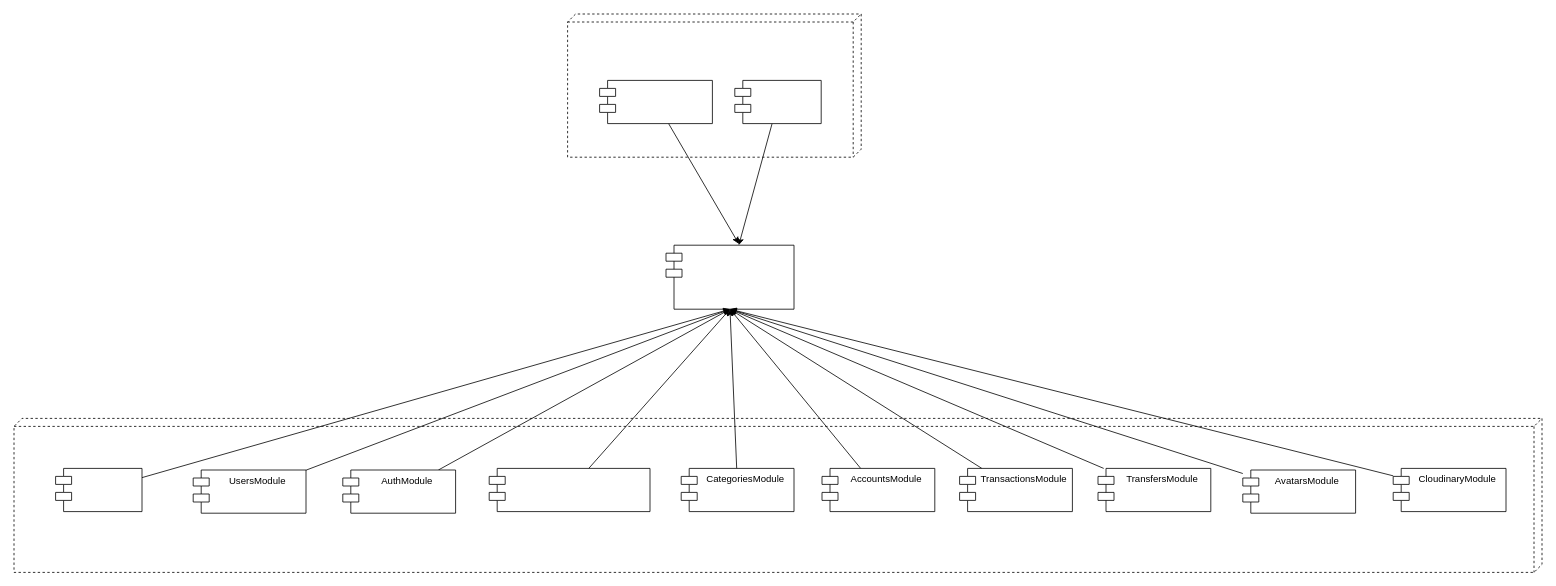
This 1556x586 diagram has some shape labels left out. The centre of each missing label's shape, as x and y in pixels:
"AppModule" belongs at pixel 729 276.
"ConfigModule" belongs at pixel 777 102.
"MailModule" belongs at pixel 98 490.
"MongooseModule" belongs at pixel 655 102.
"TransactionalTokensModule" belongs at pixel 569 490.
